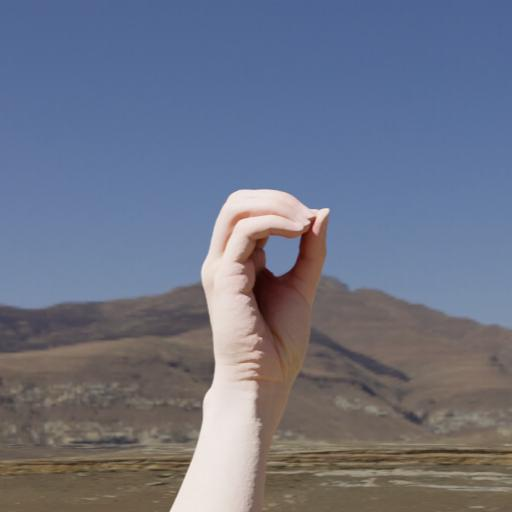O: (184, 182, 338, 500)
